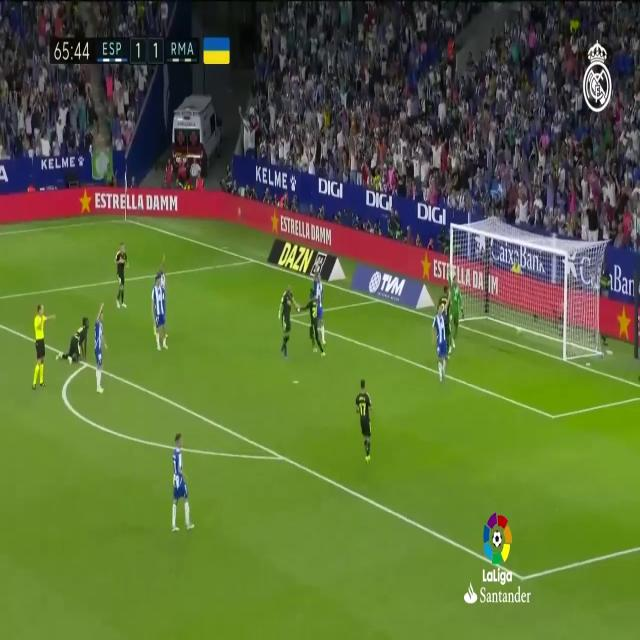ball: (514, 323, 523, 336)
team1: (297, 288, 326, 356), (354, 378, 376, 465), (55, 315, 90, 366), (277, 288, 296, 364), (115, 240, 132, 310), (438, 286, 450, 316)
team2: (168, 437, 194, 534), (433, 305, 455, 384), (151, 276, 170, 350), (94, 301, 107, 394), (314, 264, 327, 345), (158, 255, 167, 288)
